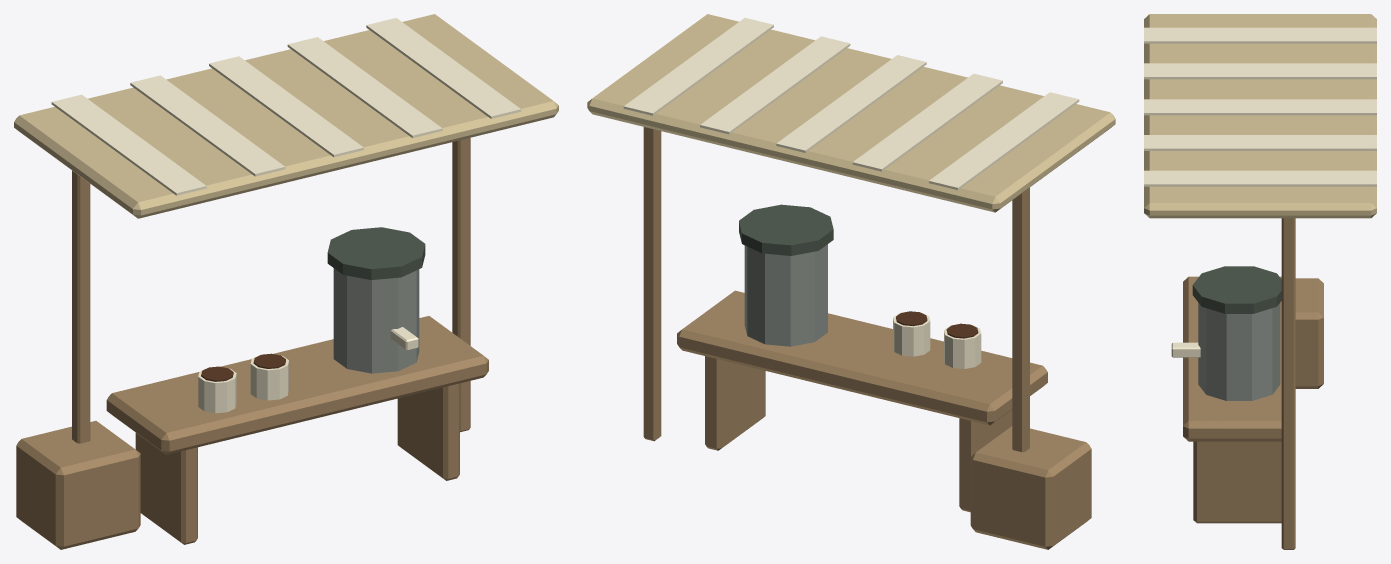
File: slice_kitchen.glb
3 renders of one model, left to right at view 1: azimuth 30°, elevation 25°; view 2: azimuth 150°, elevation 25°; view 3: azimuth 270°, elevation 25°, orthographic. The views are drawn at different scales.
Visible parts, largest first — view 1: Canvas_awning, Table, Coffee_crate, Coffee_urn, Awning_post, Table_leg, Table_leg.001, Awning_post.001, Urn_lid, Awning_stripe, Awning_stripe.001, Awning_stripe.003 (+4 smaller); view 2: Canvas_awning, Table, Coffee_crate, Coffee_urn, Awning_post.001, Awning_post, Table_leg.001, Urn_lid, Awning_stripe.001, Awning_stripe.002, Awning_stripe, Awning_stripe.004 (+4 smaller); view 3: Canvas_awning, Table_leg.001, Coffee_urn, Table, Awning_post.001, Awning_stripe, Awning_stripe.001, Awning_stripe.002, Awning_stripe.004, Awning_stripe.003, Urn_lid, Coffee_crate (+1 smaller).
Part boxes in pixels (x1,y1,x2,y2): Canvas_awning: (14,14,558,218); Table: (106,316,488,454); Coffee_crate: (16,420,140,549); Coffee_urn: (333,268,419,373); Awning_post: (72,170,90,443); Table_leg: (135,433,197,544); Table_leg.001: (397,383,459,480); Awning_post.001: (452,137,470,432); Urn_lid: (327,227,425,279); Awning_stripe: (51,94,206,195); Awning_stripe.001: (130,75,285,176); Awning_stripe.003: (287,37,442,137); Canvas_awning: (587,14,1115,212); Table: (677,290,1047,425); Coffee_crate: (970,426,1091,549); Coffee_urn: (744,244,827,346); Awning_post.001: (643,127,661,441); Awning_post: (1012,187,1029,452); Table_leg.001: (705,356,765,450); Urn_lid: (739,204,833,255); Awning_stripe.001: (852,73,1002,171); Awning_stripe.002: (776,55,926,152); Awning_stripe: (929,92,1079,190); Awning_stripe.004: (623,18,773,115); Canvas_awning: (1144,14,1376,218); Table_leg.001: (1193,441,1281,523); Coffee_urn: (1198,303,1280,400); Table: (1183,276,1281,441); Awning_post.001: (1281,218,1295,549); Awning_stripe: (1144,27,1376,43); Awning_stripe.001: (1144,63,1376,79); Awning_stripe.002: (1144,99,1376,115); Awning_stripe.004: (1144,170,1376,186); Awning_stripe.003: (1144,135,1376,150); Urn_lid: (1192,266,1281,313); Coffee_crate: (1295,278,1323,388).
Size of the model in its own units: 3.45 by 2.78 by 1.65.
